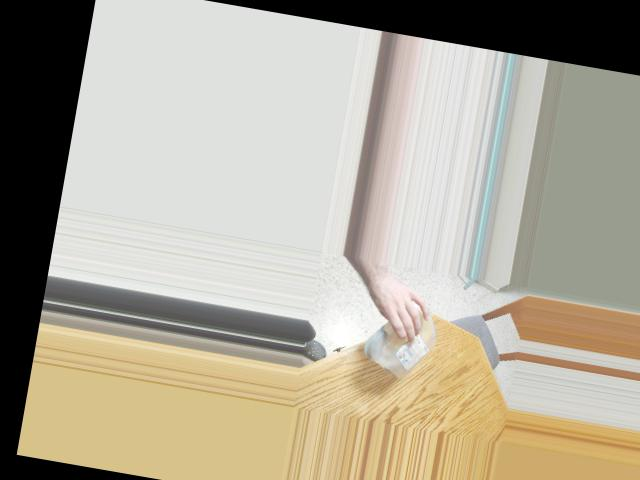cheese: (368, 291, 447, 386)
